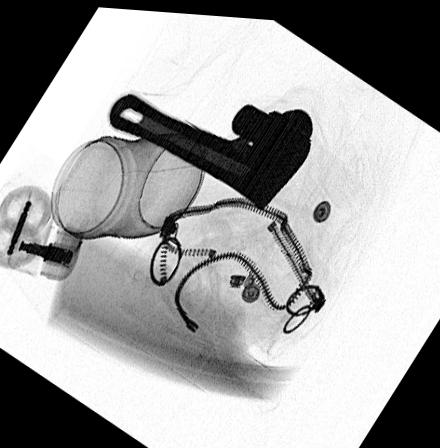Wrench: (106, 87, 316, 209)
